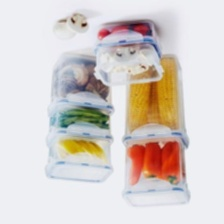plastic_box: (118, 49, 192, 157), (117, 133, 194, 212), (87, 15, 167, 90), (42, 49, 118, 122), (39, 130, 116, 187), (42, 103, 117, 153)
